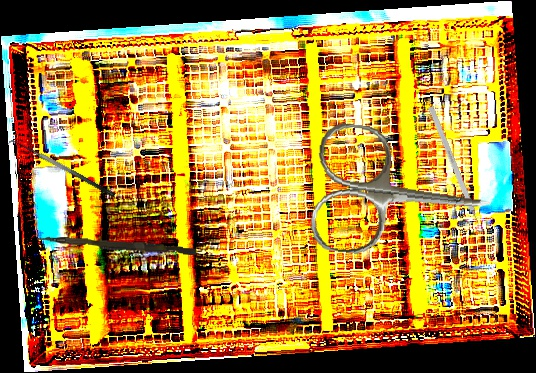Hook Surgical: (427, 105, 485, 235)
Iris Scissors: (306, 120, 500, 270)
Pusher: (36, 235, 197, 256)
Spatula Surgical: (5, 133, 117, 207)
